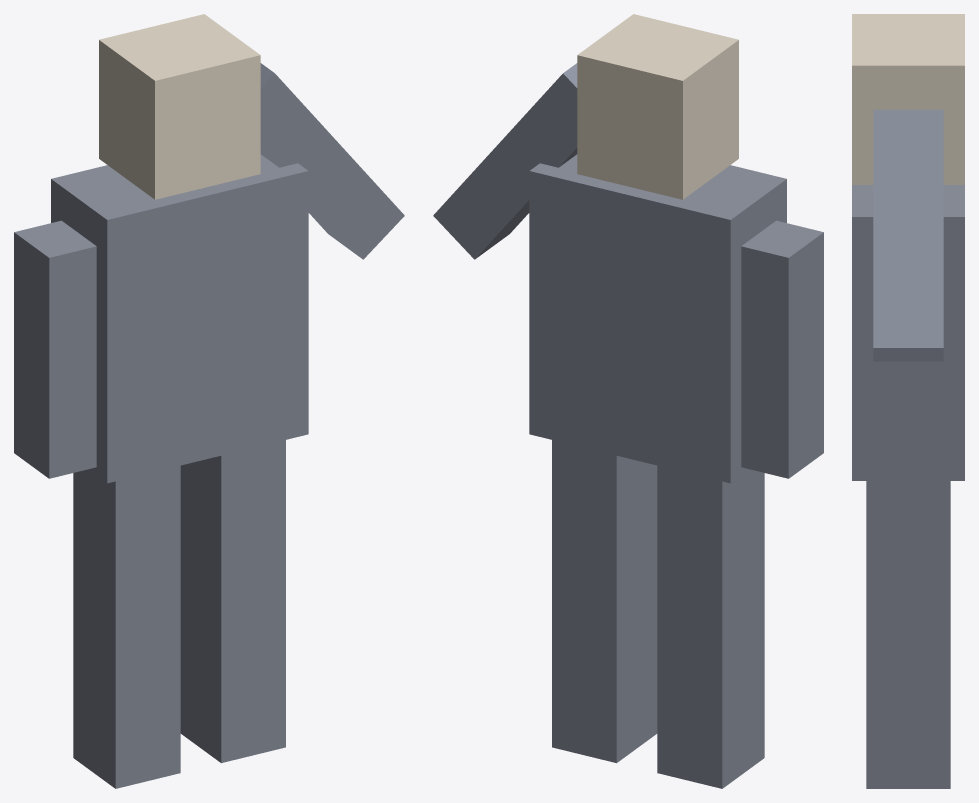
Rendered from npc_breit.glb.
3 renders of one model, left to right at view 1: azimuth 30°, elevation 25°; view 2: azimuth 150°, elevation 25°; view 3: azimuth 270°, elevation 25°, orthographic.
Visible parts, largest first — view 1: rumpf, bein_links, bein_rechts, kopf, arm_links, arm_rechts; view 2: rumpf, bein_links, bein_rechts, kopf, arm_links, arm_rechts; view 3: bein_rechts, rumpf, arm_rechts, kopf.
Boxes of the visible parts, box(x1,y1,x2,y2) form: rumpf: box(51, 154, 308, 483); bein_links: box(73, 465, 180, 788); bein_rechts: box(180, 440, 285, 763); kopf: box(99, 14, 260, 199); arm_links: box(14, 220, 96, 478); arm_rechts: box(260, 63, 404, 259); rumpf: box(529, 154, 786, 483); bein_links: box(657, 465, 764, 788); bein_rechts: box(552, 440, 657, 763); kopf: box(577, 14, 738, 199); arm_links: box(741, 220, 823, 478); arm_rechts: box(433, 63, 577, 259); bein_rechts: box(866, 481, 950, 788); rumpf: box(852, 185, 964, 480); arm_rechts: box(873, 109, 943, 361); kopf: box(852, 14, 964, 184).
Size of the model in its own units: 0.8763 by 1.66 by 0.24.
